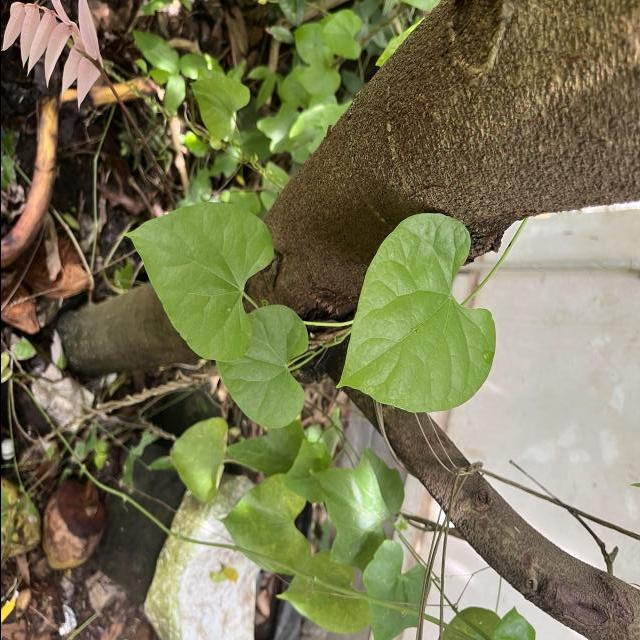Tinospora cordifolia: (331, 208, 499, 416), (118, 198, 276, 364), (215, 302, 311, 432)
